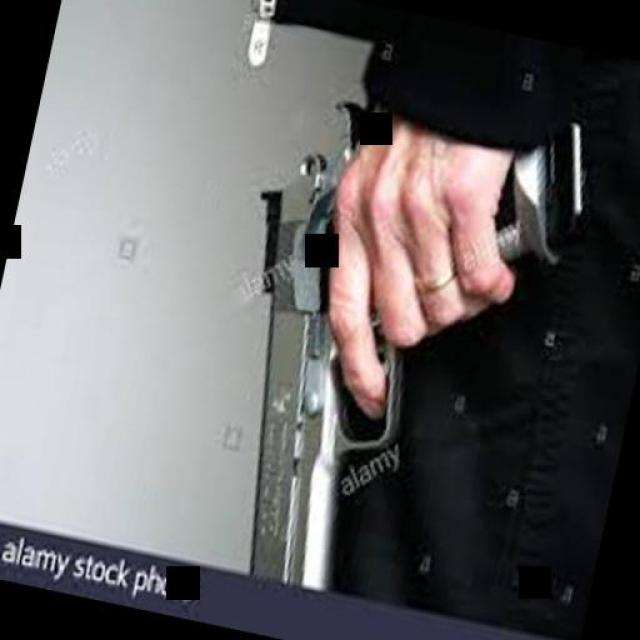gun: (190, 56, 608, 622)
